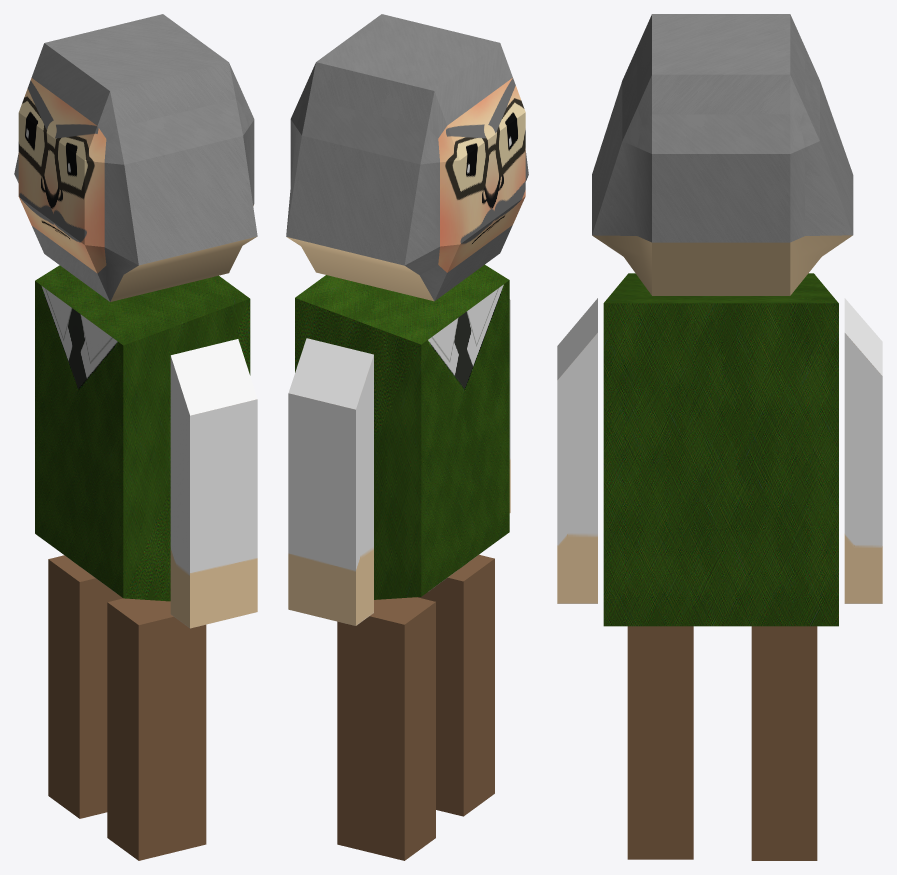
File: teacher.FBX
The picture shows the model from 3 angles, left to right: view 1: azimuth 30°, elevation 25°; view 2: azimuth 150°, elevation 25°; view 3: azimuth 270°, elevation 25°; orthographic projection. The views are drawn at different scales.
Parts seen in each view (by area): view 1: Box027, Box026, Box021, Box025, Box023; view 2: Box027, Box026, Box023, Box024, Box021; view 3: Box026, Box027, Box023, Box021, Box025, Box024.
Boxes of the visible parts, left/top/right/bottom form: Box027: left=14, top=14, right=257, bottom=301; Box026: left=35, top=265, right=250, bottom=601; Box021: left=107, top=598, right=206, bottom=860; Box025: left=170, top=339, right=257, bottom=628; Box023: left=48, top=555, right=122, bottom=818; Box027: left=286, top=14, right=528, bottom=301; Box026: left=295, top=264, right=509, bottom=599; Box023: left=337, top=597, right=435, bottom=860; Box024: left=288, top=338, right=373, bottom=625; Box021: left=417, top=554, right=494, bottom=816; Box026: left=603, top=273, right=838, bottom=626; Box027: left=592, top=14, right=853, bottom=295; Box023: left=751, top=626, right=817, bottom=860; Box021: left=627, top=626, right=693, bottom=859; Box025: left=557, top=298, right=597, bottom=603; Box024: left=844, top=298, right=882, bottom=603.
Bounding box in the file's own units: 12.68 × 54.71 × 20.08.
